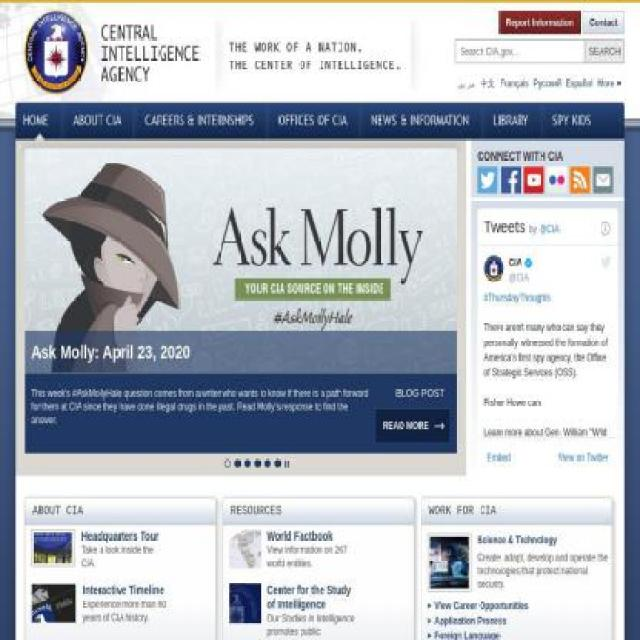button: (24, 10, 199, 95), (132, 102, 266, 140), (359, 102, 481, 140), (266, 102, 360, 140), (374, 407, 452, 444), (61, 102, 133, 140), (540, 102, 603, 140), (480, 102, 540, 140), (499, 11, 581, 34), (16, 102, 61, 140), (385, 386, 450, 408), (428, 598, 529, 612), (427, 614, 507, 628), (582, 11, 626, 34), (427, 628, 501, 640), (478, 166, 498, 194), (501, 166, 521, 194), (524, 166, 544, 194), (547, 166, 567, 194), (570, 166, 590, 194), (593, 166, 613, 194), (597, 78, 621, 89), (224, 458, 231, 468), (234, 458, 241, 468), (244, 458, 251, 468), (254, 458, 261, 468), (264, 458, 271, 468), (274, 458, 281, 468), (284, 458, 291, 468)
field: (456, 39, 584, 64), (584, 39, 624, 64)
